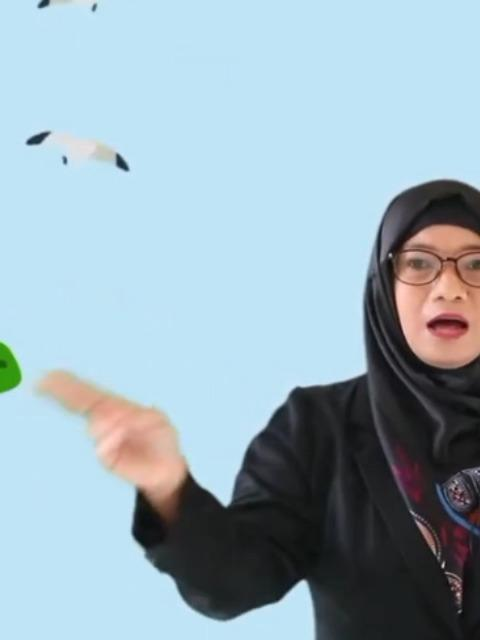H: (34, 364, 190, 496)
